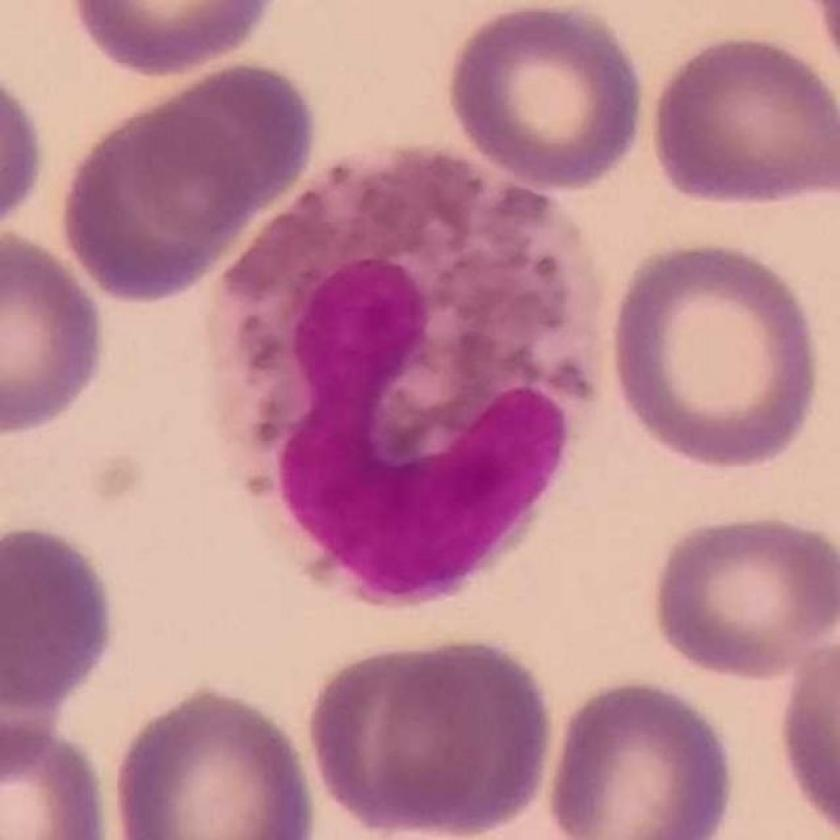eosinophil: (203, 140, 611, 621)
